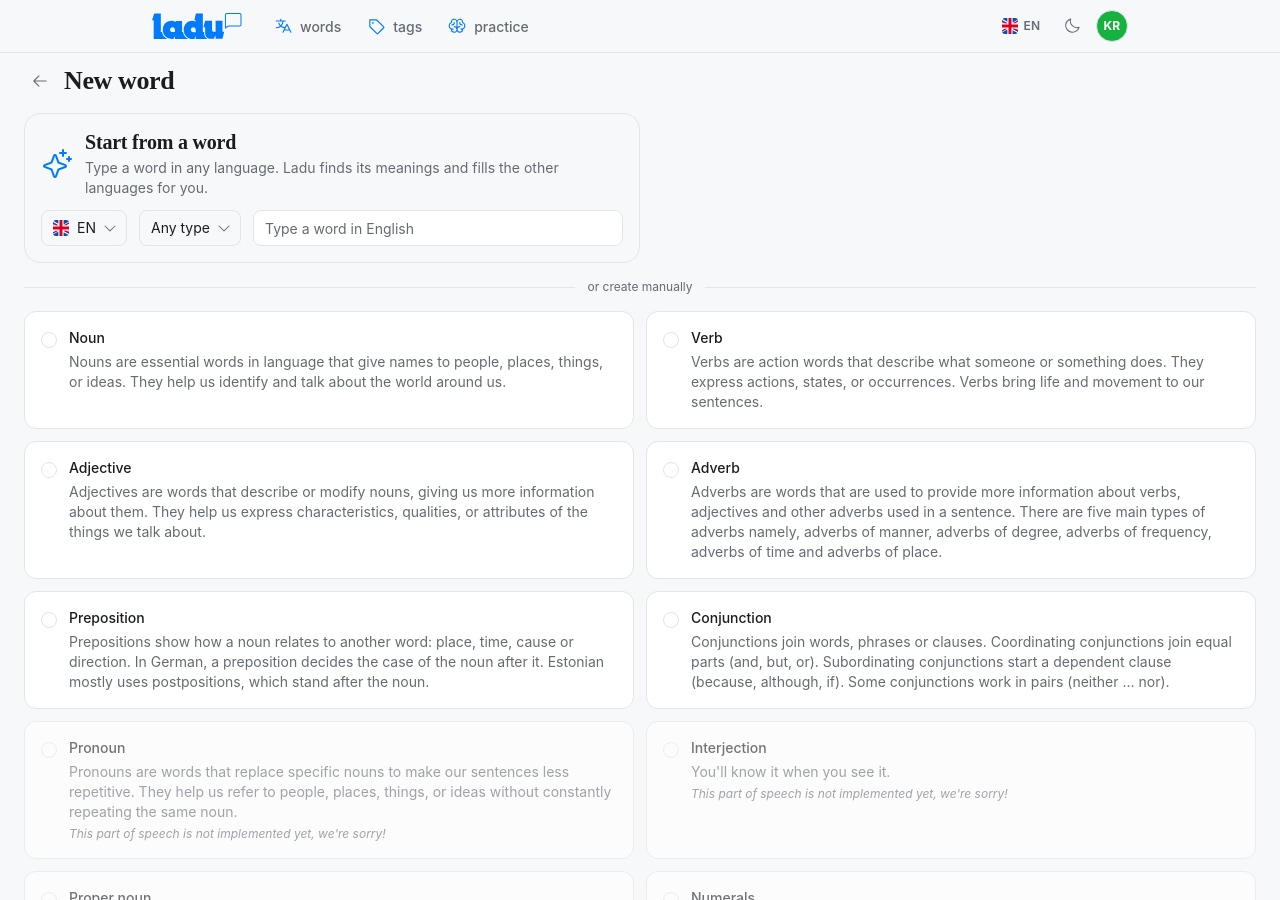
it: AddWordPage › shows "Start from a word" above the part-of-speech list; a draft opens the form with one filled card per language, ready to save
Check: the element with test id "start-from-word" is shown, box [24, 113, 640, 263]
Check: the text "or create manually" is shown, box [588, 279, 693, 295]
Type "ban" into the dropdown with test id "start-word-input" at point(438, 228), box [253, 210, 623, 246]
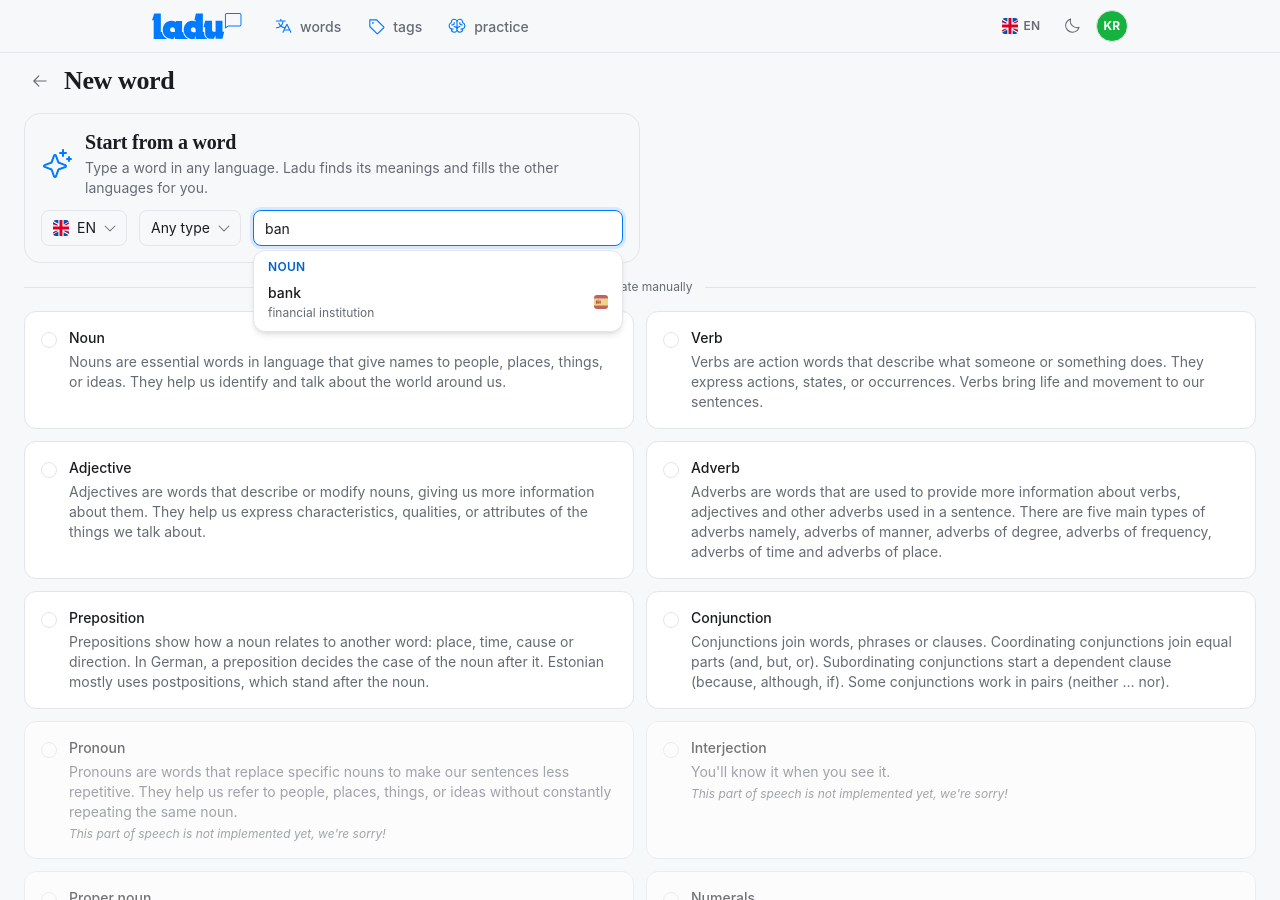
Click the option "bank financial institution" at point(284, 292), box [258, 277, 618, 327]
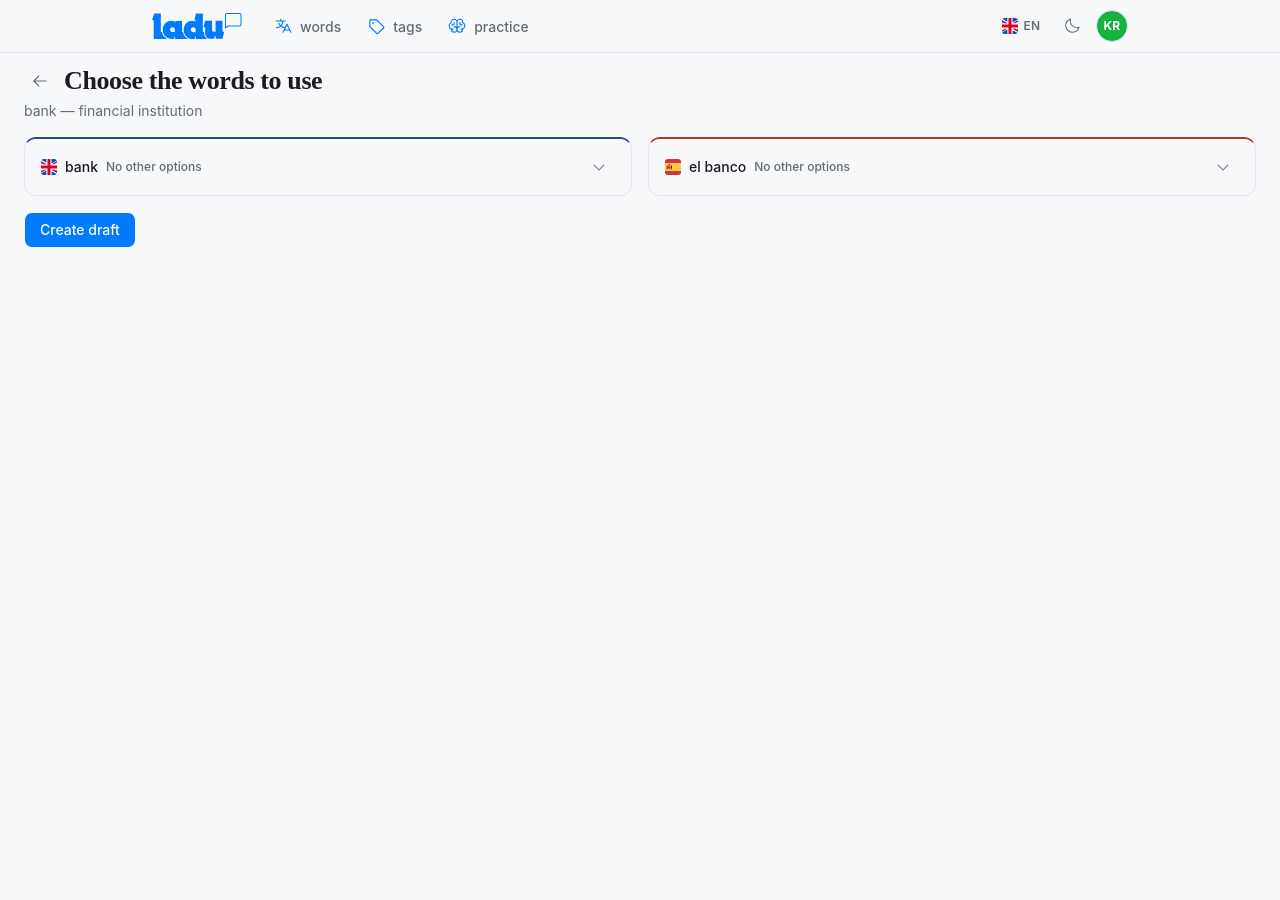
Click the button "Create draft" at point(80, 230), box [24, 212, 136, 248]
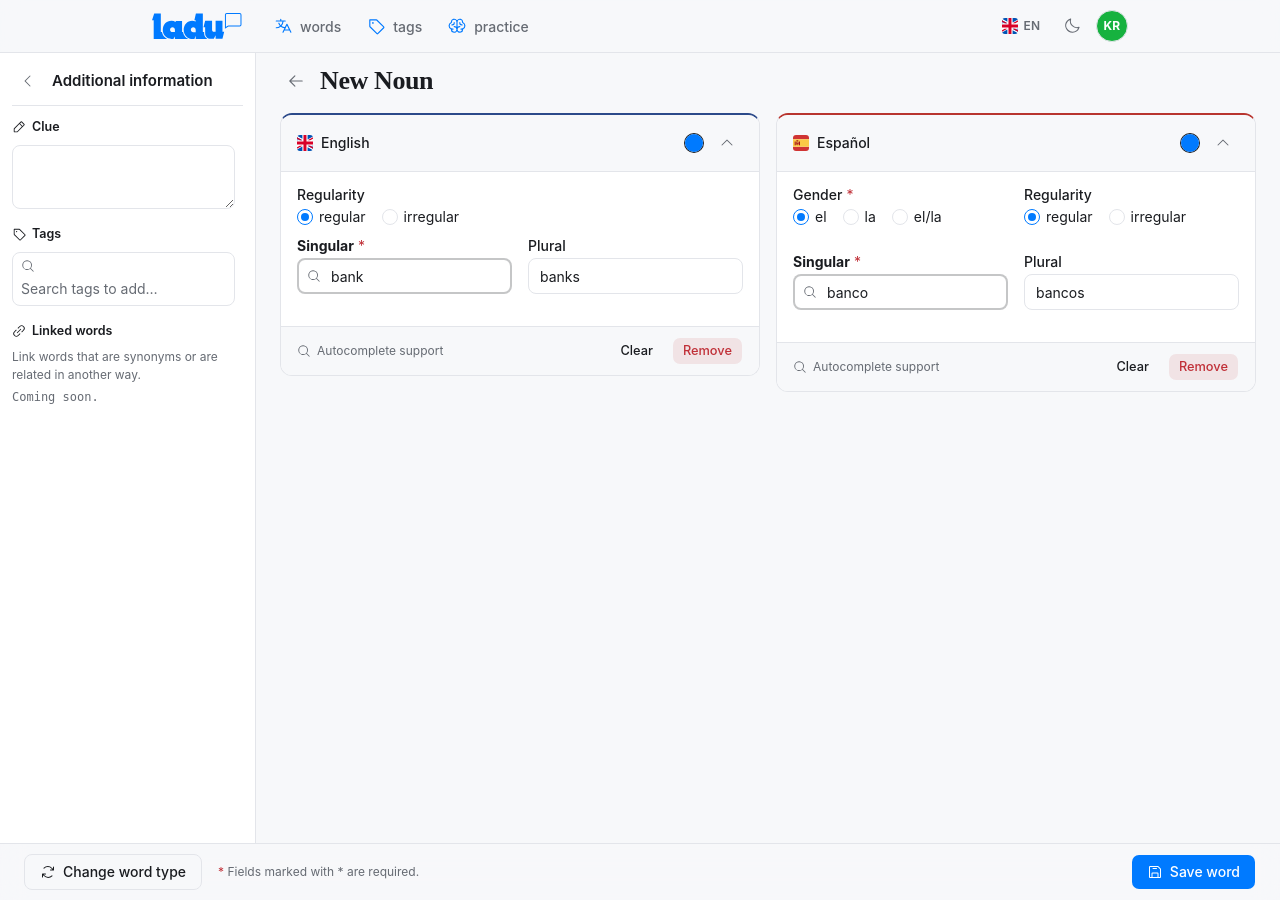
Check: the heading "New Noun" is shown, box [320, 66, 433, 96]
Check: the 3rd radio button named "el" is checked, box [793, 209, 809, 225]
Check: the button "Save word" is enabled, box [1131, 854, 1256, 890]
